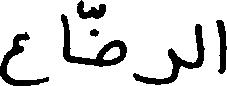X: (0, 27, 44, 85), (98, 0, 125, 71), (136, 43, 176, 85), (216, 15, 226, 78), (63, 9, 68, 66), (196, 19, 201, 72)
